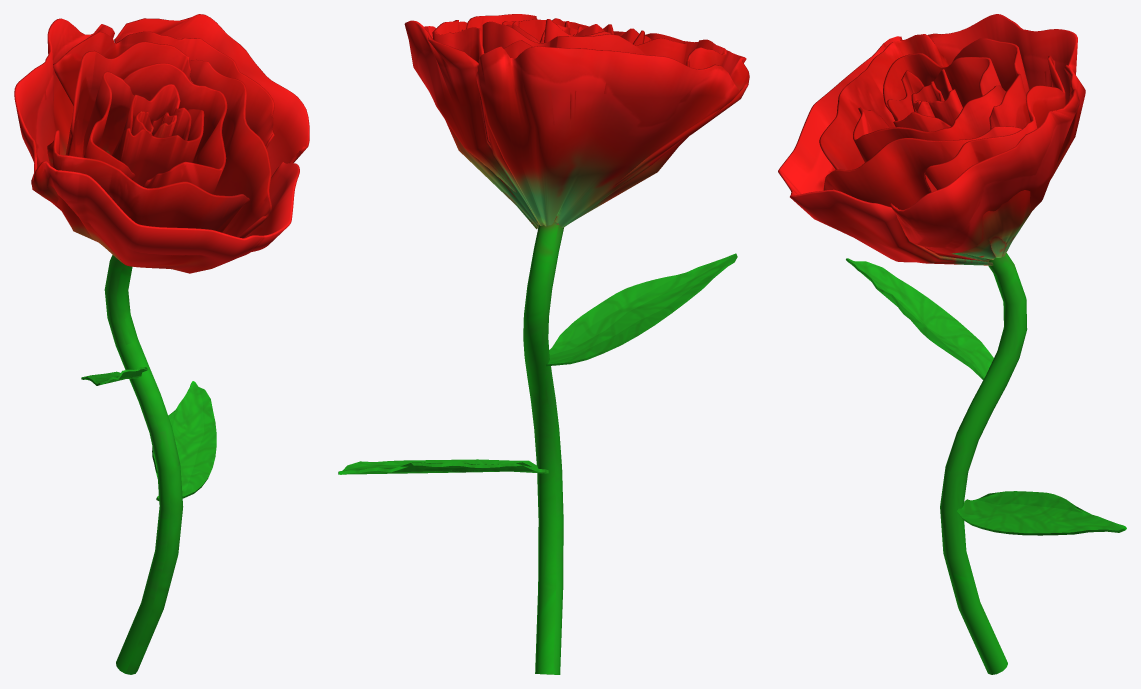
The model's file is flor1.glb.
3 renders of one model, left to right at view 1: azimuth 30°, elevation 25°; view 2: azimuth 150°, elevation 25°; view 3: azimuth 270°, elevation 25°, orthographic. The views are drawn at different scales.
Parts seen in each view (by area): view 1: flor, caule, folha2, folha; view 2: flor, caule, folha, folha2; view 3: flor, caule, folha2, folha.
Boxes of the visible parts, bbox=[...] form: flor: bbox=[14, 14, 309, 273]; caule: bbox=[104, 255, 183, 674]; folha2: bbox=[152, 381, 216, 500]; folha: bbox=[81, 367, 148, 385]; flor: bbox=[404, 14, 749, 229]; caule: bbox=[523, 222, 563, 674]; folha: bbox=[546, 253, 737, 366]; folha2: bbox=[338, 459, 548, 474]; flor: bbox=[778, 14, 1085, 265]; caule: bbox=[940, 253, 1027, 674]; folha2: bbox=[957, 491, 1126, 535]; folha: bbox=[846, 258, 993, 379].
Size of the model in its own units: 1.43 by 3.01 by 1.53.
3 materials, 3 textured.
